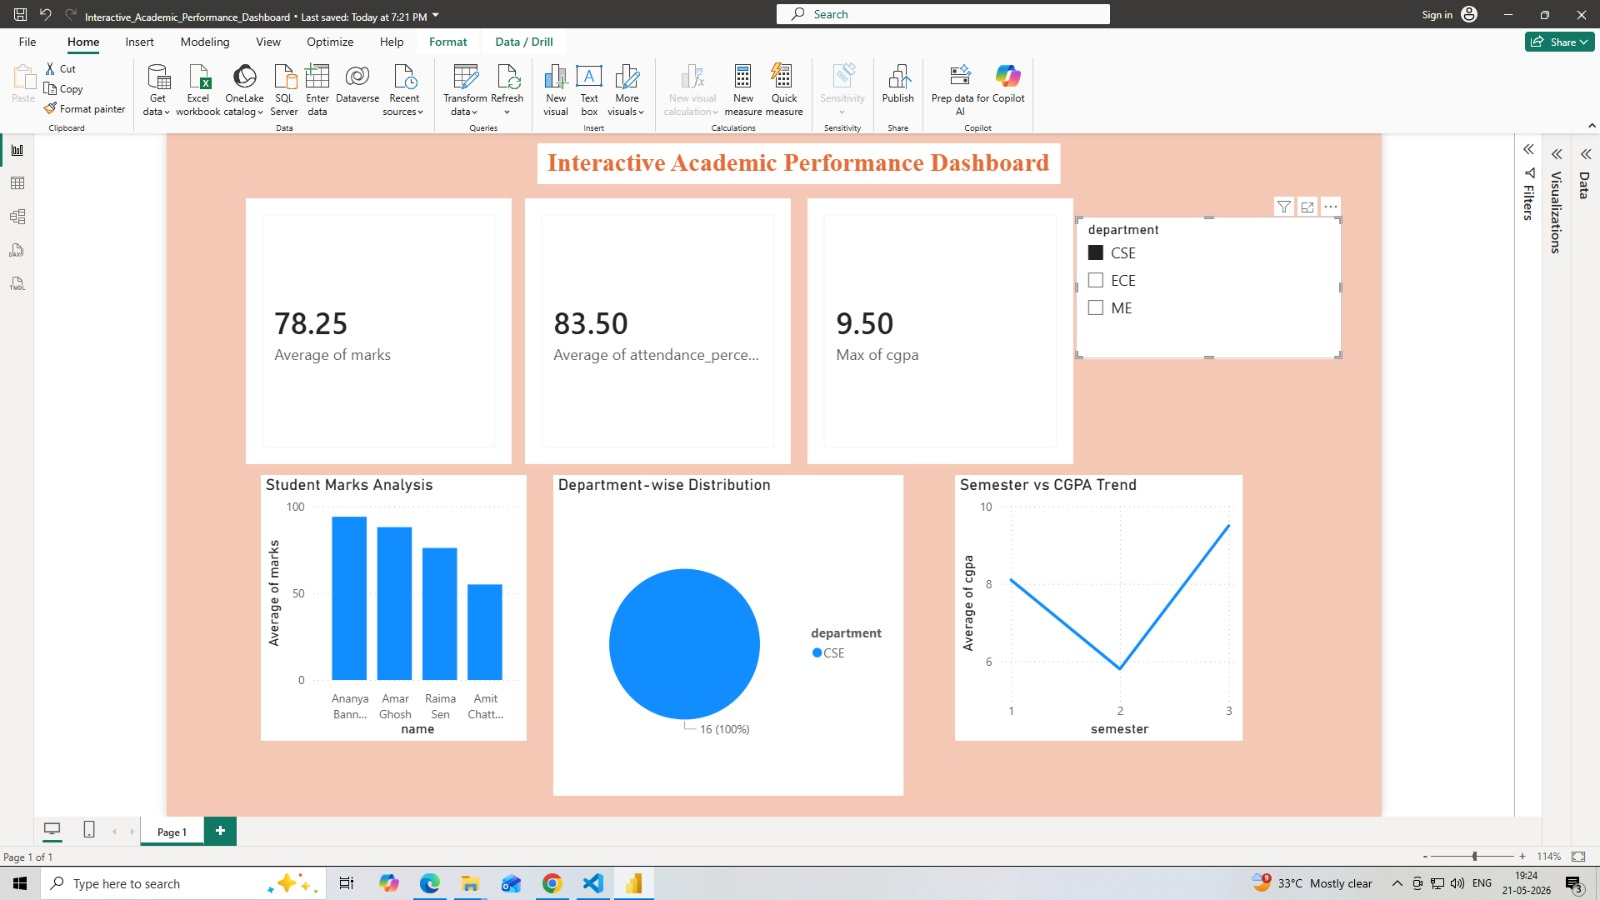

Layout of this report page (visuals, bound fields, positions):
{"tool":"powerbi","page":{"name":"Page 1","canvas":[1280,720],"ordinal":0},"visuals":[{"type":"cardVisual","fields":{"Data":["Avg(students.marks)"]},"box":[83.6,68.1,280.1,280.1],"z":0},{"type":"cardVisual","fields":{"Data":["Avg(students.attendance_percentage)"]},"box":[377.4,68.1,280.1,280.1],"z":1000},{"type":"cardVisual","fields":{"Data":["Max(students.cgpa)"]},"box":[675,68.1,280.1,280.1],"z":1001},{"type":"clusteredColumnChart","title":"Student Marks Analysis","fields":{"Category":["students.name"],"Y":["Avg(students.marks)"]},"box":[99.2,360,280,280],"z":1002},{"type":"pieChart","title":"Department-wise Distribution","fields":{"Category":["students.department"],"Y":["Sum(students.student_id)"]},"box":[407.5,359.9,368.6,337.5],"z":1003},{"type":"lineChart","title":"Semester vs CGPA Trend","fields":{"Category":["students.semester"],"Y":["Avg(students.cgpa)"]},"box":[830.6,359.9,303.5,280.1],"z":1004},{"type":"slicer","fields":{"Values":["students.department"]},"box":[958.1,87.5,280.1,149.8],"z":1005},{"type":"textbox","box":[391,10.7,550.5,42.8],"z":1006}]}

Visuals, with their boxes on the page's 1280x720 design canvas (x1, y1, x2, y2). These are canvas units, not pixel positions in the 1600x900 screenshot, which may show the page scaled, cropped or inside an application window:
cardVisual - Avg(students.marks): locate(84, 68, 364, 348)
cardVisual - Avg(students.attendance_percentage): locate(377, 68, 658, 348)
cardVisual - Max(students.cgpa): locate(675, 68, 955, 348)
"Student Marks Analysis" clusteredColumnChart: locate(99, 360, 379, 640)
"Department-wise Distribution" pieChart: locate(408, 360, 776, 697)
"Semester vs CGPA Trend" lineChart: locate(831, 360, 1134, 640)
slicer - students.department: locate(958, 88, 1238, 237)
textbox: locate(391, 11, 942, 54)
